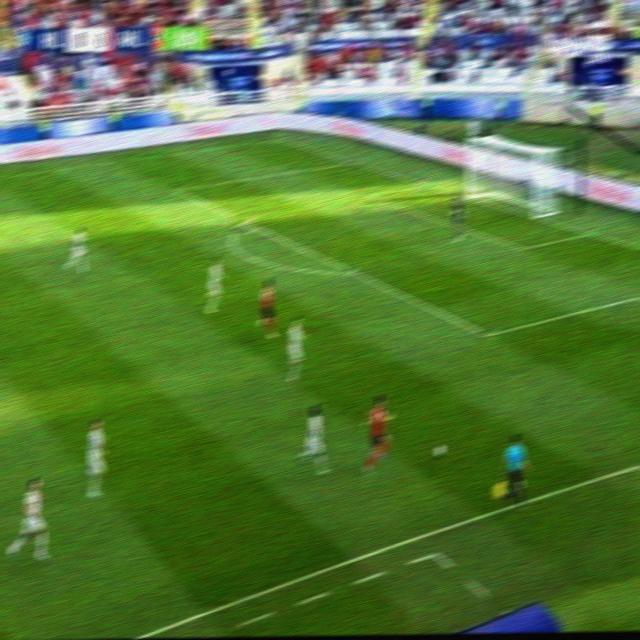bigarea_bottom_inner: (478, 326, 496, 343)
bigarea_top_inner: (170, 182, 183, 195)
bigarea_top_outter: (342, 158, 355, 164)
bottom_arc_area_intersection: (344, 265, 358, 279)
corner: (268, 134, 284, 143)
smallarea_bottom_inner: (516, 240, 530, 254)
smallarea_bottom_outter: (582, 226, 598, 240)
smallarea_top_inner: (357, 186, 382, 205)
smallarea_top_outter: (410, 177, 434, 194)
top_arc_area_intersection: (232, 214, 259, 234)
